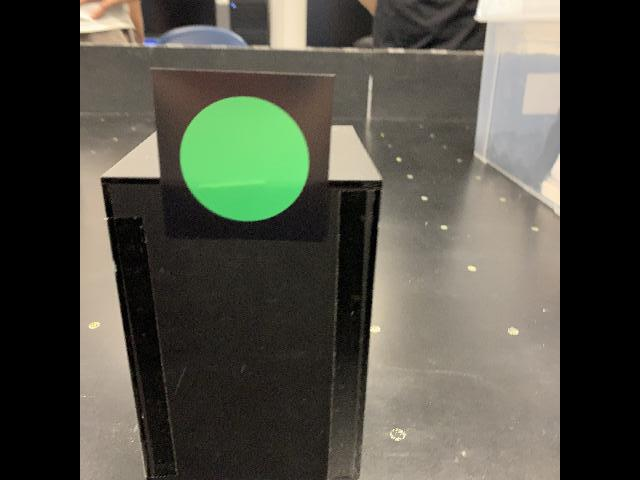go: (149, 65, 340, 249)
